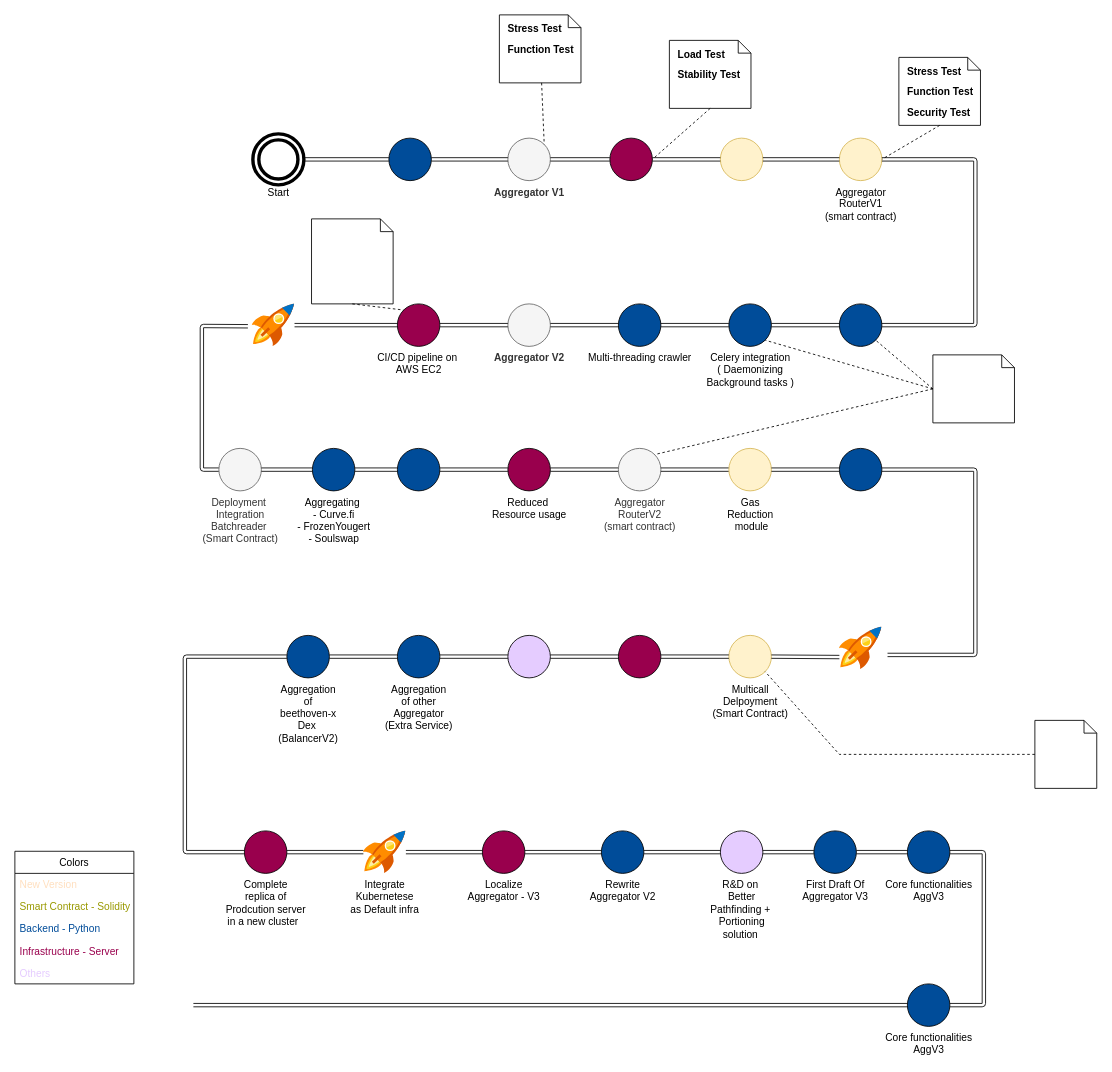
The diagram is 1112 pixels wide and 1072 high, and some of its shapes have lost their labels. The shapes that lost their labels are listed below. From the top down, each one's centre as x and y in pixels, then its label:
point 409,159: Blockchain Crawler (Uniswap only)
point 630,159: Deploy on local VPS
point 741,159: R&D on known bugs
point 352,261: Stress Test Function Test Security Test Stability Test
point 273,324: Complete Production Infrastructure
point 860,324: FastApi Integration
point 973,388: Stability Test Functional Test
point 418,469: Obtimising Aggregator Logic ( reduced response time by 5s)
point 860,469: Transaction Calldata packing
point 528,656: FrontEnd Integration with other Chains
point 639,656: Clustering Workload (Kubernetese)
point 860,647: Complete Aggregator V2 on production
point 1065,754: Functional Test
